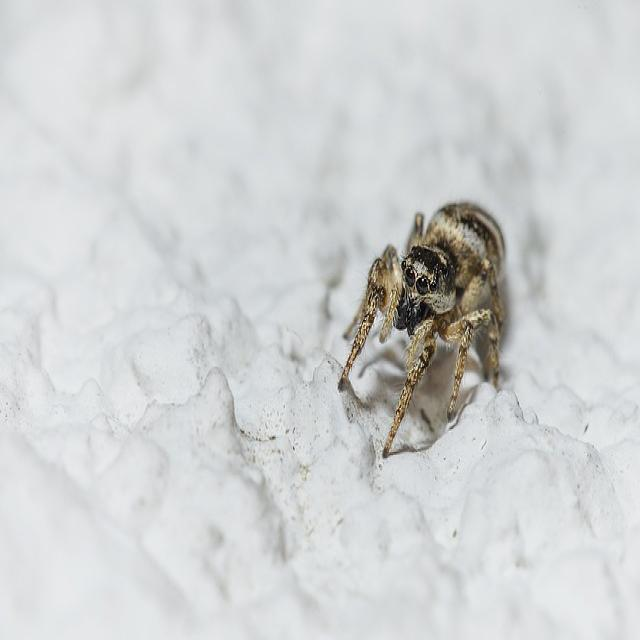spyder: (340, 203, 505, 454)
